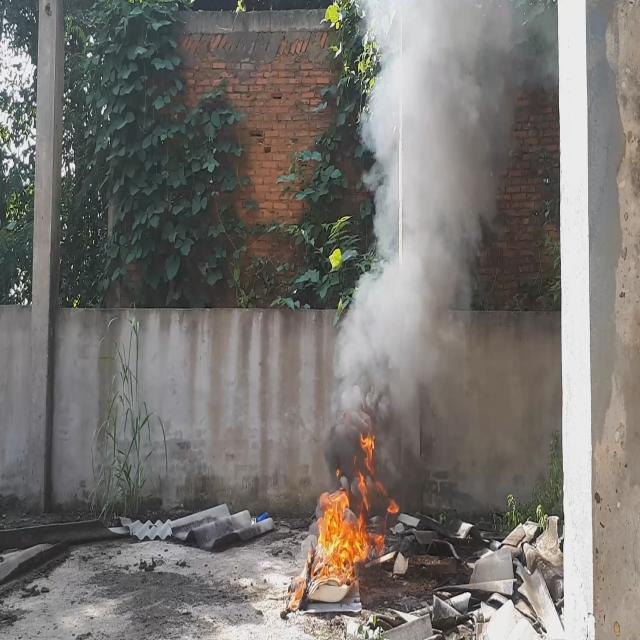Fire: (313, 464, 396, 584)
Smoke: (328, 0, 525, 520)
